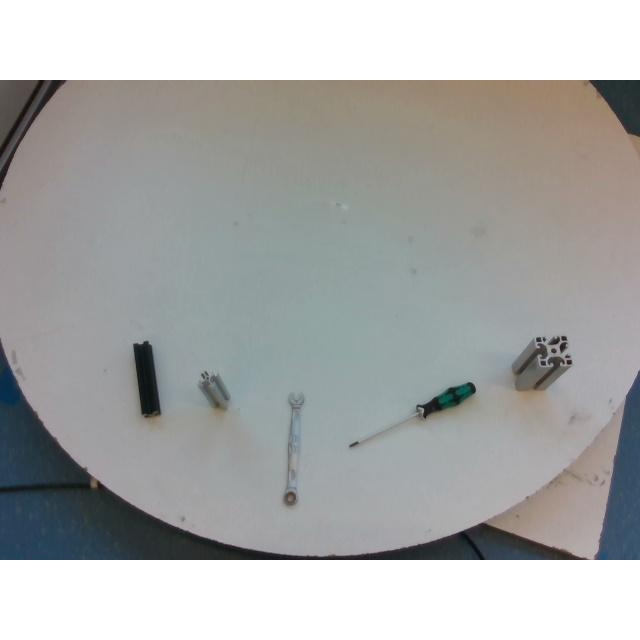F20_20_B: (132, 341, 160, 415)
F20_20_G: (198, 370, 230, 410)
S40_40_G: (512, 334, 572, 390)
Screwdriver: (348, 381, 476, 447)
Wrench: (284, 392, 304, 503)
